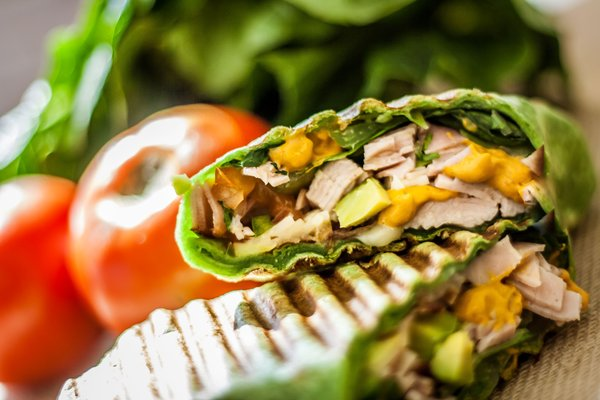taco: (0, 172, 102, 385)
